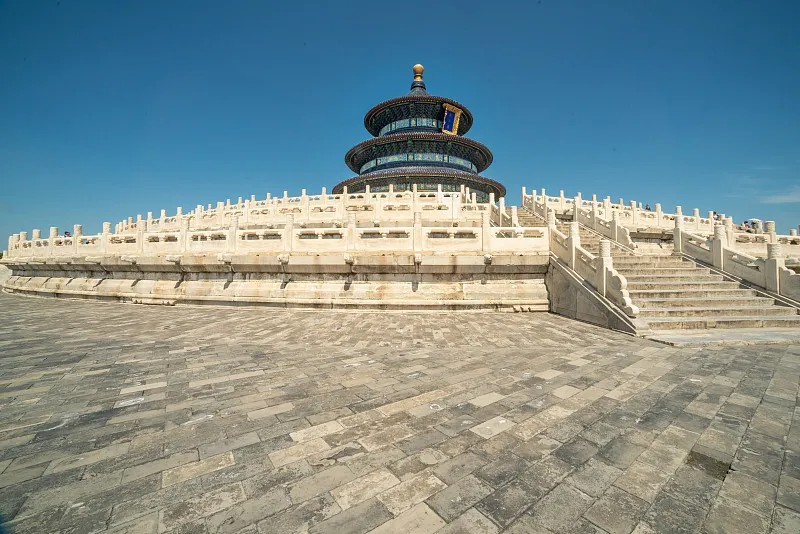Heaven: (331, 63, 508, 205)
